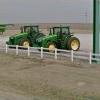Tractor: (7, 18, 84, 59)
